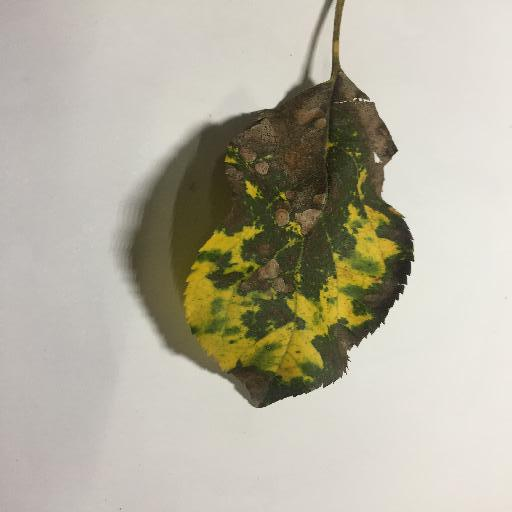Brown_Spot: (177, 91, 424, 404)
